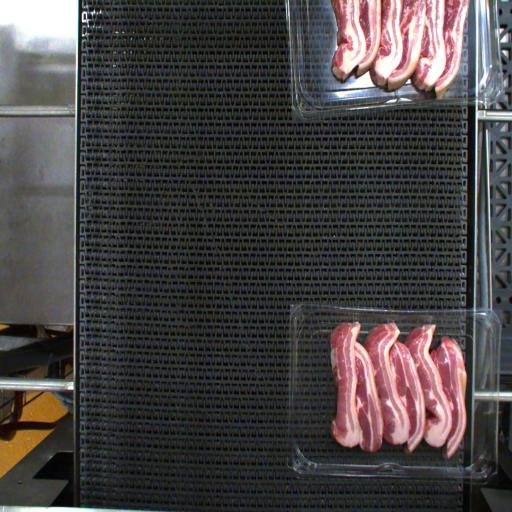packaging-error: (419, 314, 435, 328)
